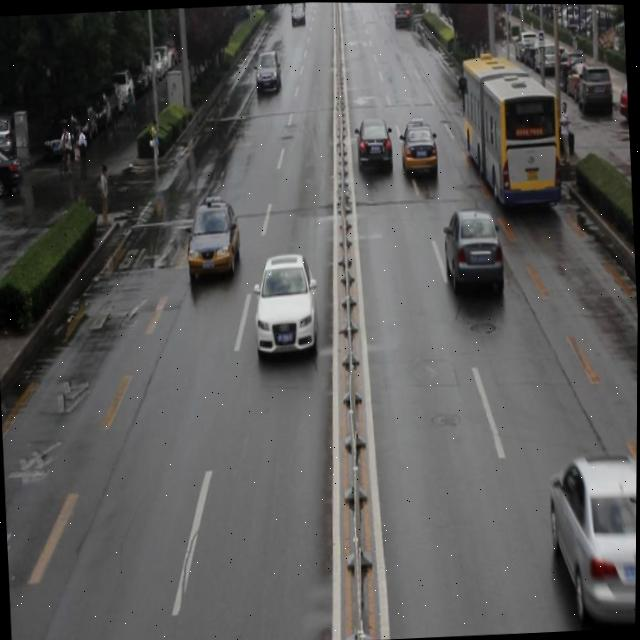car: (542, 446, 637, 631), (253, 249, 322, 363), (441, 206, 503, 298), (186, 200, 241, 278), (400, 121, 439, 183), (354, 117, 393, 174)
van: (460, 50, 562, 208)
